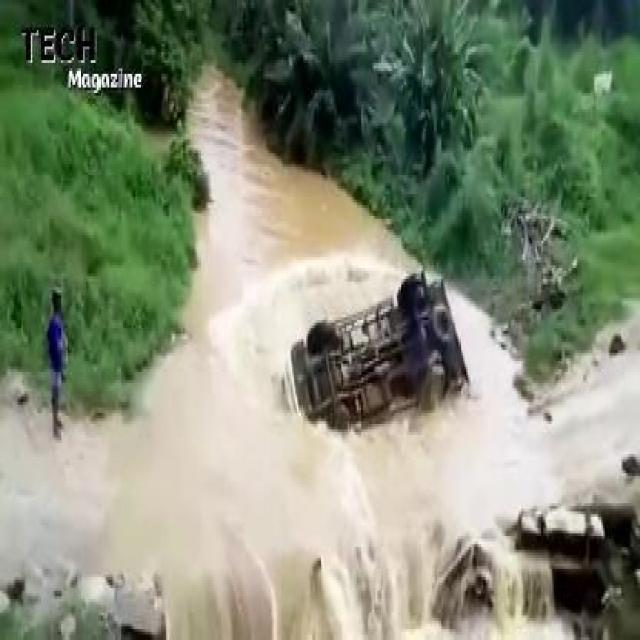accident: (277, 252, 468, 443)
